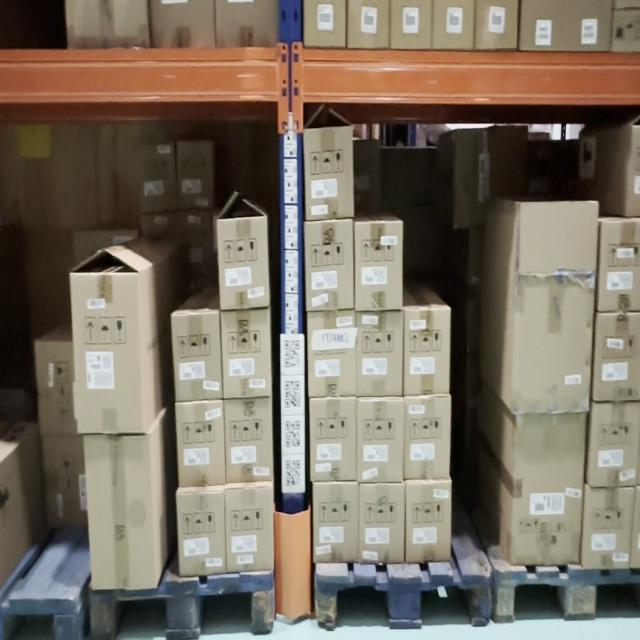box: (509, 414, 587, 565), (73, 274, 145, 424), (88, 440, 156, 593), (516, 277, 592, 413), (306, 222, 353, 312), (177, 492, 227, 574), (174, 402, 224, 483), (222, 218, 267, 308), (306, 128, 353, 214), (310, 400, 358, 483), (226, 399, 272, 485), (173, 314, 222, 394), (309, 315, 356, 397), (358, 313, 403, 396), (404, 312, 448, 396), (222, 315, 270, 391), (355, 224, 401, 303), (358, 484, 404, 562), (586, 488, 632, 566), (406, 398, 451, 477), (227, 492, 272, 570), (359, 402, 401, 478), (315, 486, 356, 558), (408, 484, 448, 555)
